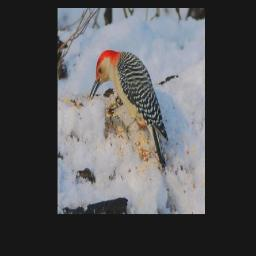Woodpecker: (89, 48, 170, 175)
